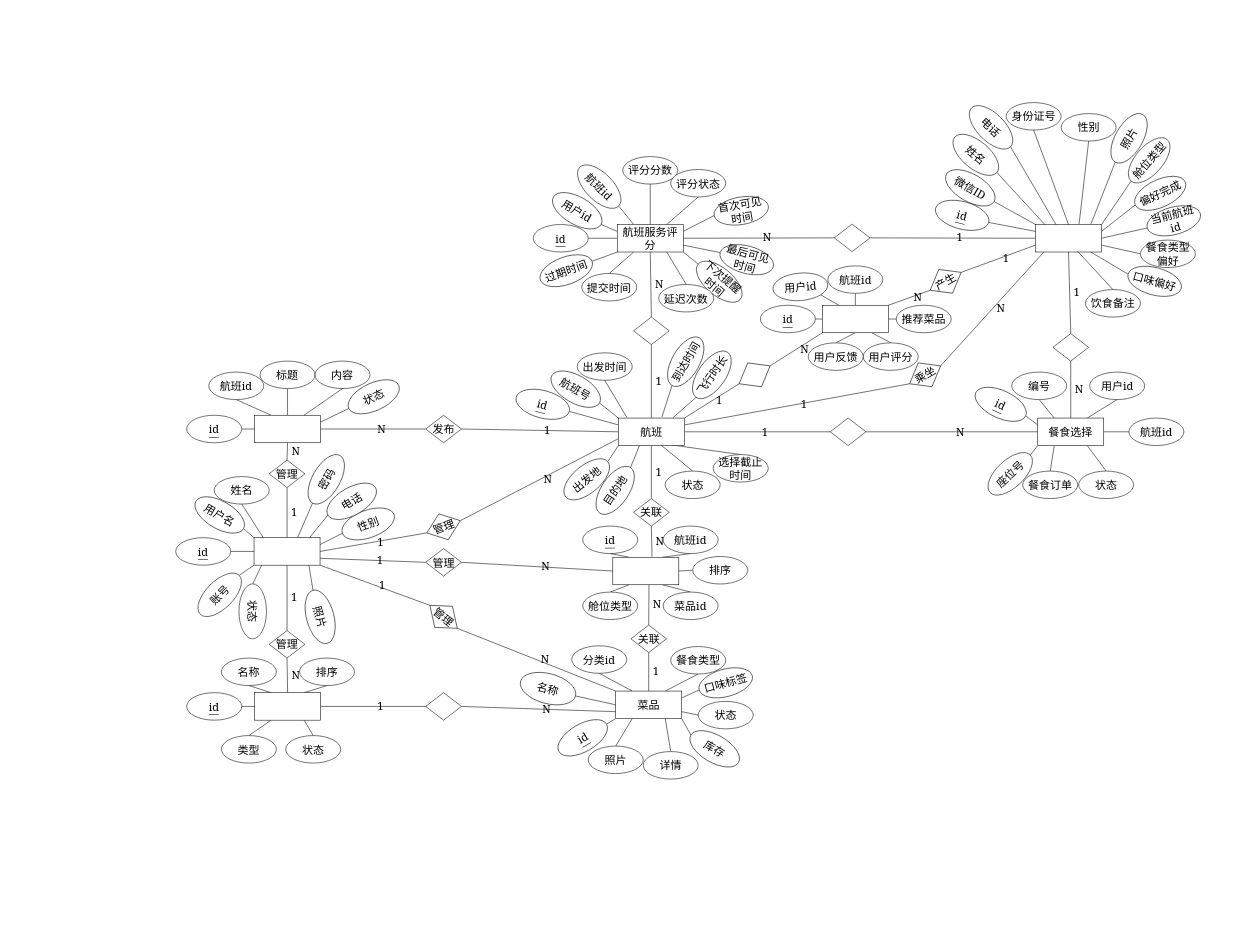
Image size: 1249x925. Some labels were removed from this diagram. Each missing label, with the centre of its shape:
"分类" goes at (x=287, y=706).
"包含" goes at (x=848, y=432).
"员工" goes at (x=286, y=551).
"所属" goes at (x=443, y=706).
"推荐日志" goes at (x=855, y=319).
"提交" goes at (x=852, y=238).
"收到" goes at (x=651, y=331).
"用户" goes at (x=1068, y=238).
"航班公告" goes at (x=287, y=429).
"航班菜品" goes at (x=645, y=571).
"记录" goes at (x=754, y=374).
"预选" goes at (x=1070, y=347).
